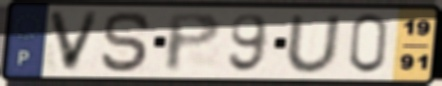0: (347, 12, 390, 77)
9: (227, 13, 272, 74)
P: (164, 11, 224, 75)
S: (98, 10, 153, 74)
U: (283, 13, 343, 75)
V: (45, 9, 104, 74)
